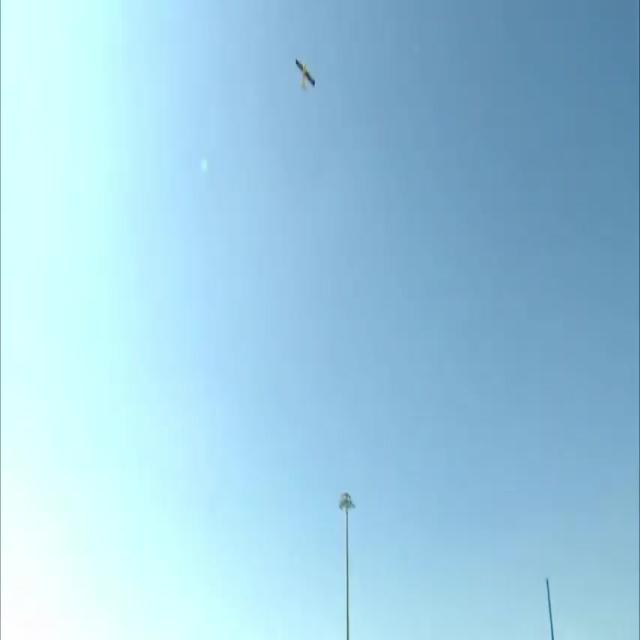iha: (294, 0, 317, 23)
